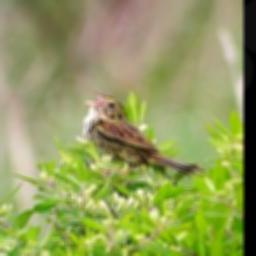Sparrow: (80, 91, 208, 185)
